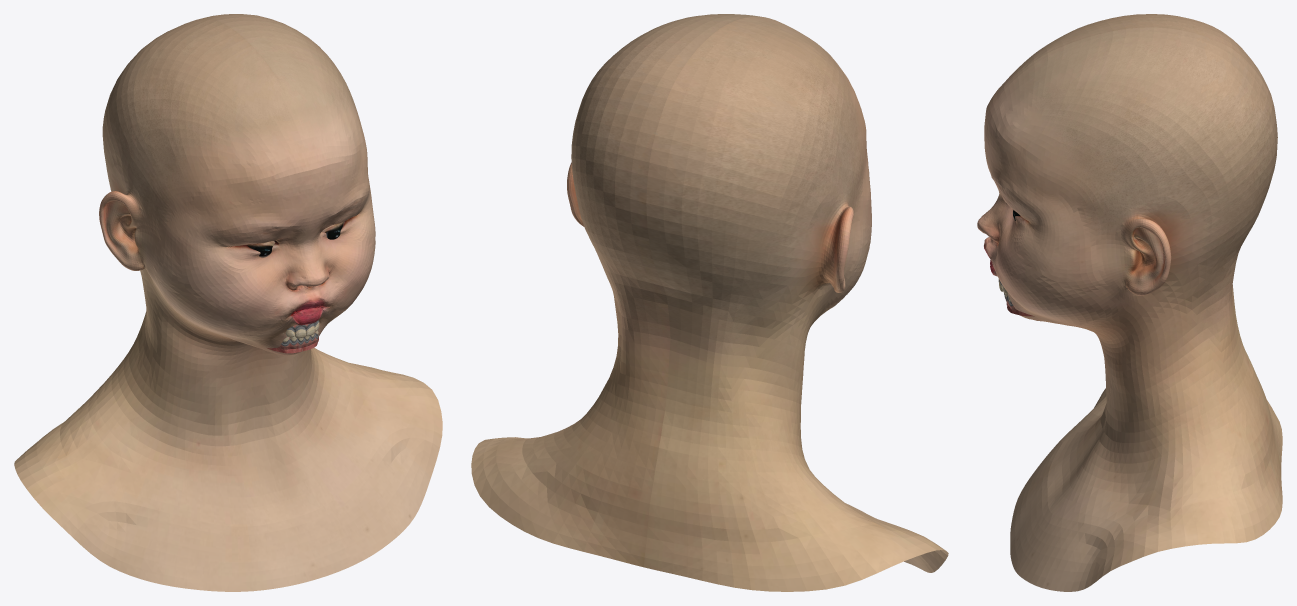
The picture shows the model from 3 angles, left to right: view 1: azimuth 30°, elevation 25°; view 2: azimuth 150°, elevation 25°; view 3: azimuth 270°, elevation 25°; orthographic projection. The views are drawn at different scales.
Visible parts, largest first — view 1: head_lod0_mesh, teeth_lod0_mesh; view 2: head_lod0_mesh; view 3: head_lod0_mesh.
Boxes of the visible parts, <box> form: head_lod0_mesh: <box>14,14,442,591</box>; teeth_lod0_mesh: <box>267,322,319,353</box>; head_lod0_mesh: <box>471,14,948,591</box>; head_lod0_mesh: <box>977,14,1282,591</box>.
Bounding box in the file's own units: 29.88 × 35.48 × 18.99.
5 materials, 4 textured.
